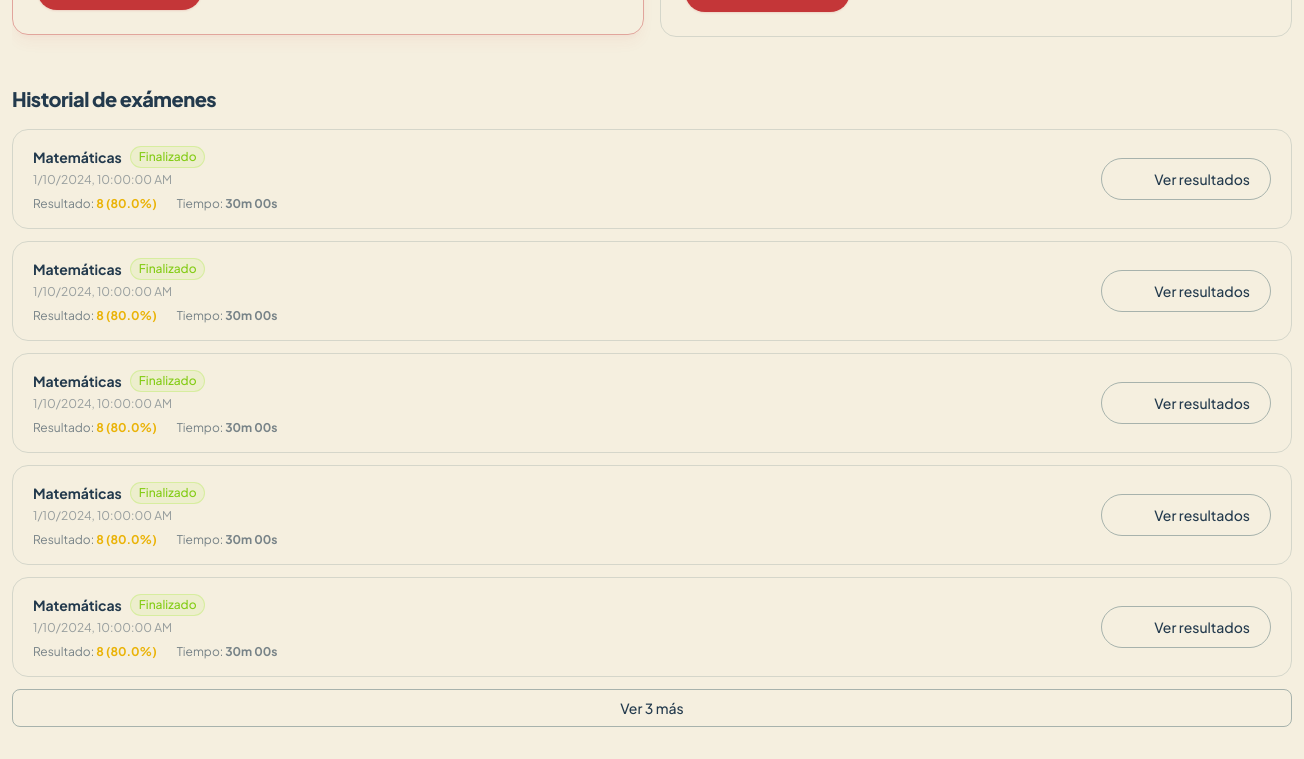
it: SubjectsPage › shows "Ver menos" and "Ver más" button for long history lists
(page scrolled)
Click the button "Ver 3 más".
click(652, 708)  # box [12,689,1292,727]
(page scrolled)
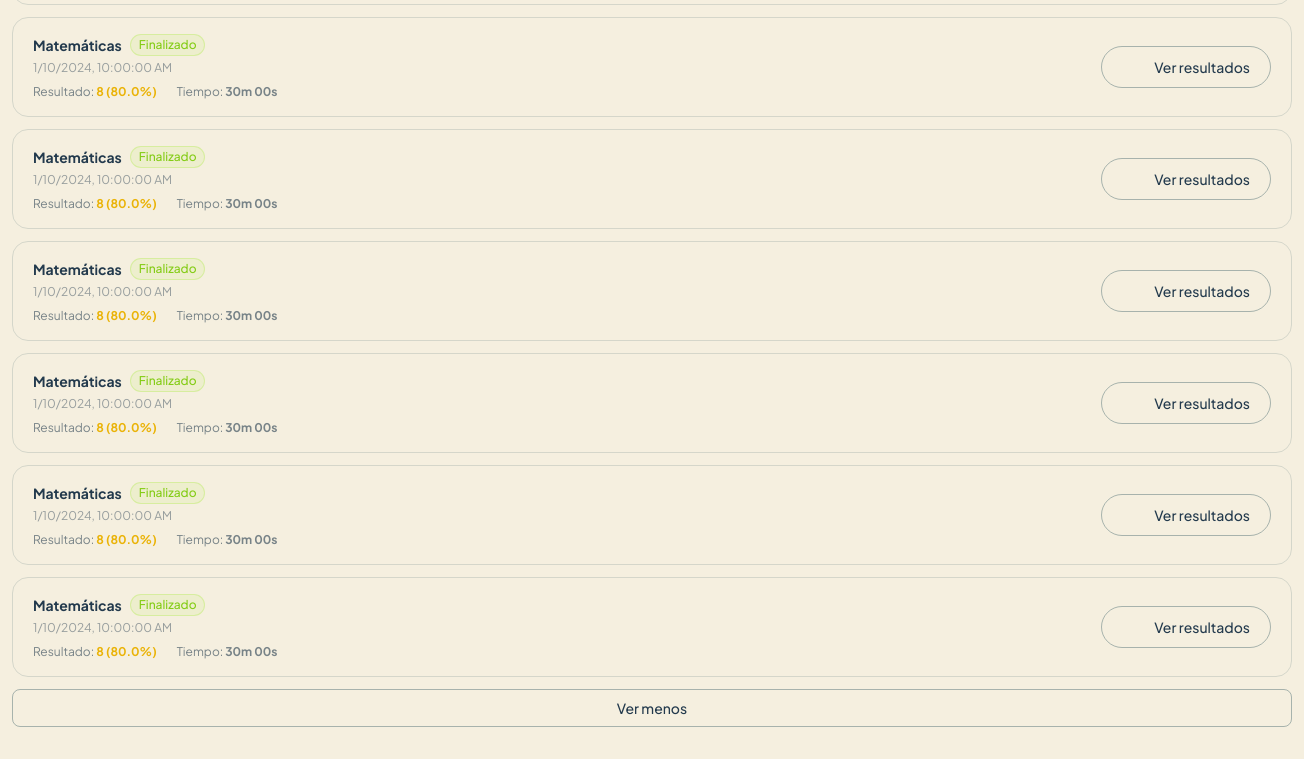
Check: the button "Ver menos" is shown
Click the button "Ver menos".
click(652, 708)  # box [12,689,1292,727]
(page scrolled)
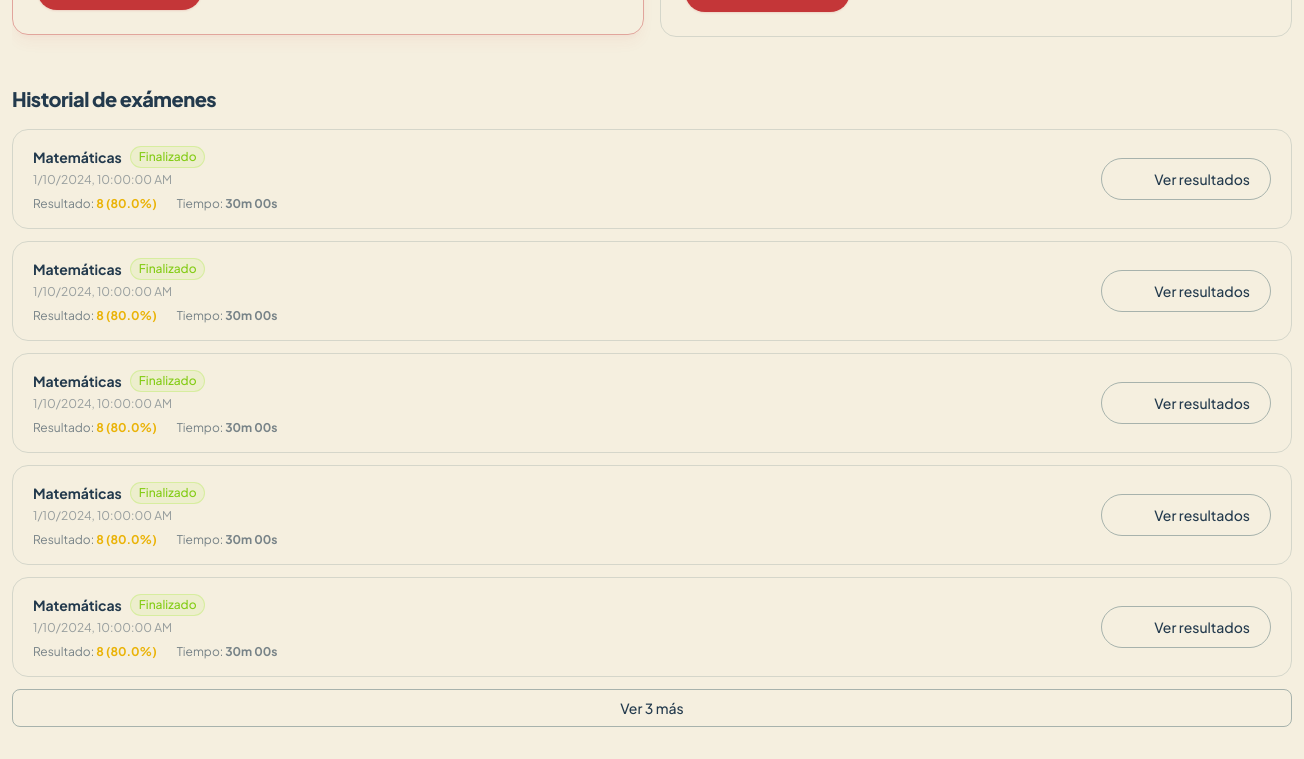
Check: the button "Ver 3 más" is shown, box [12,689,1292,727]
